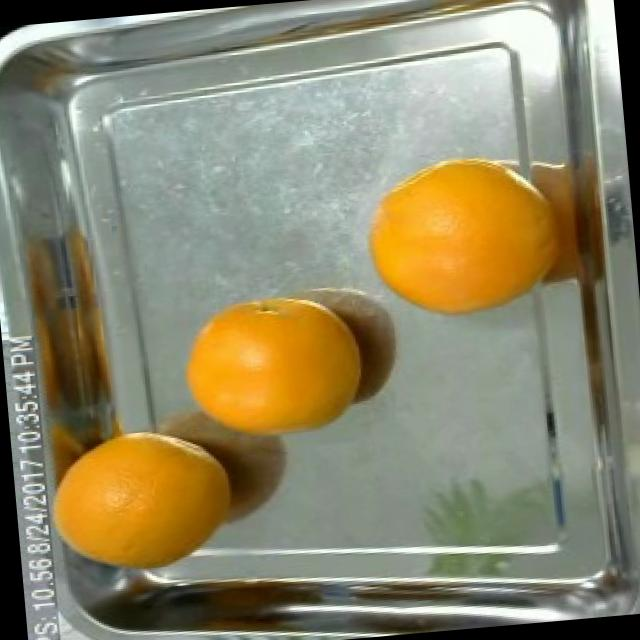Fruit: (37, 400, 266, 594), (159, 279, 391, 463)
